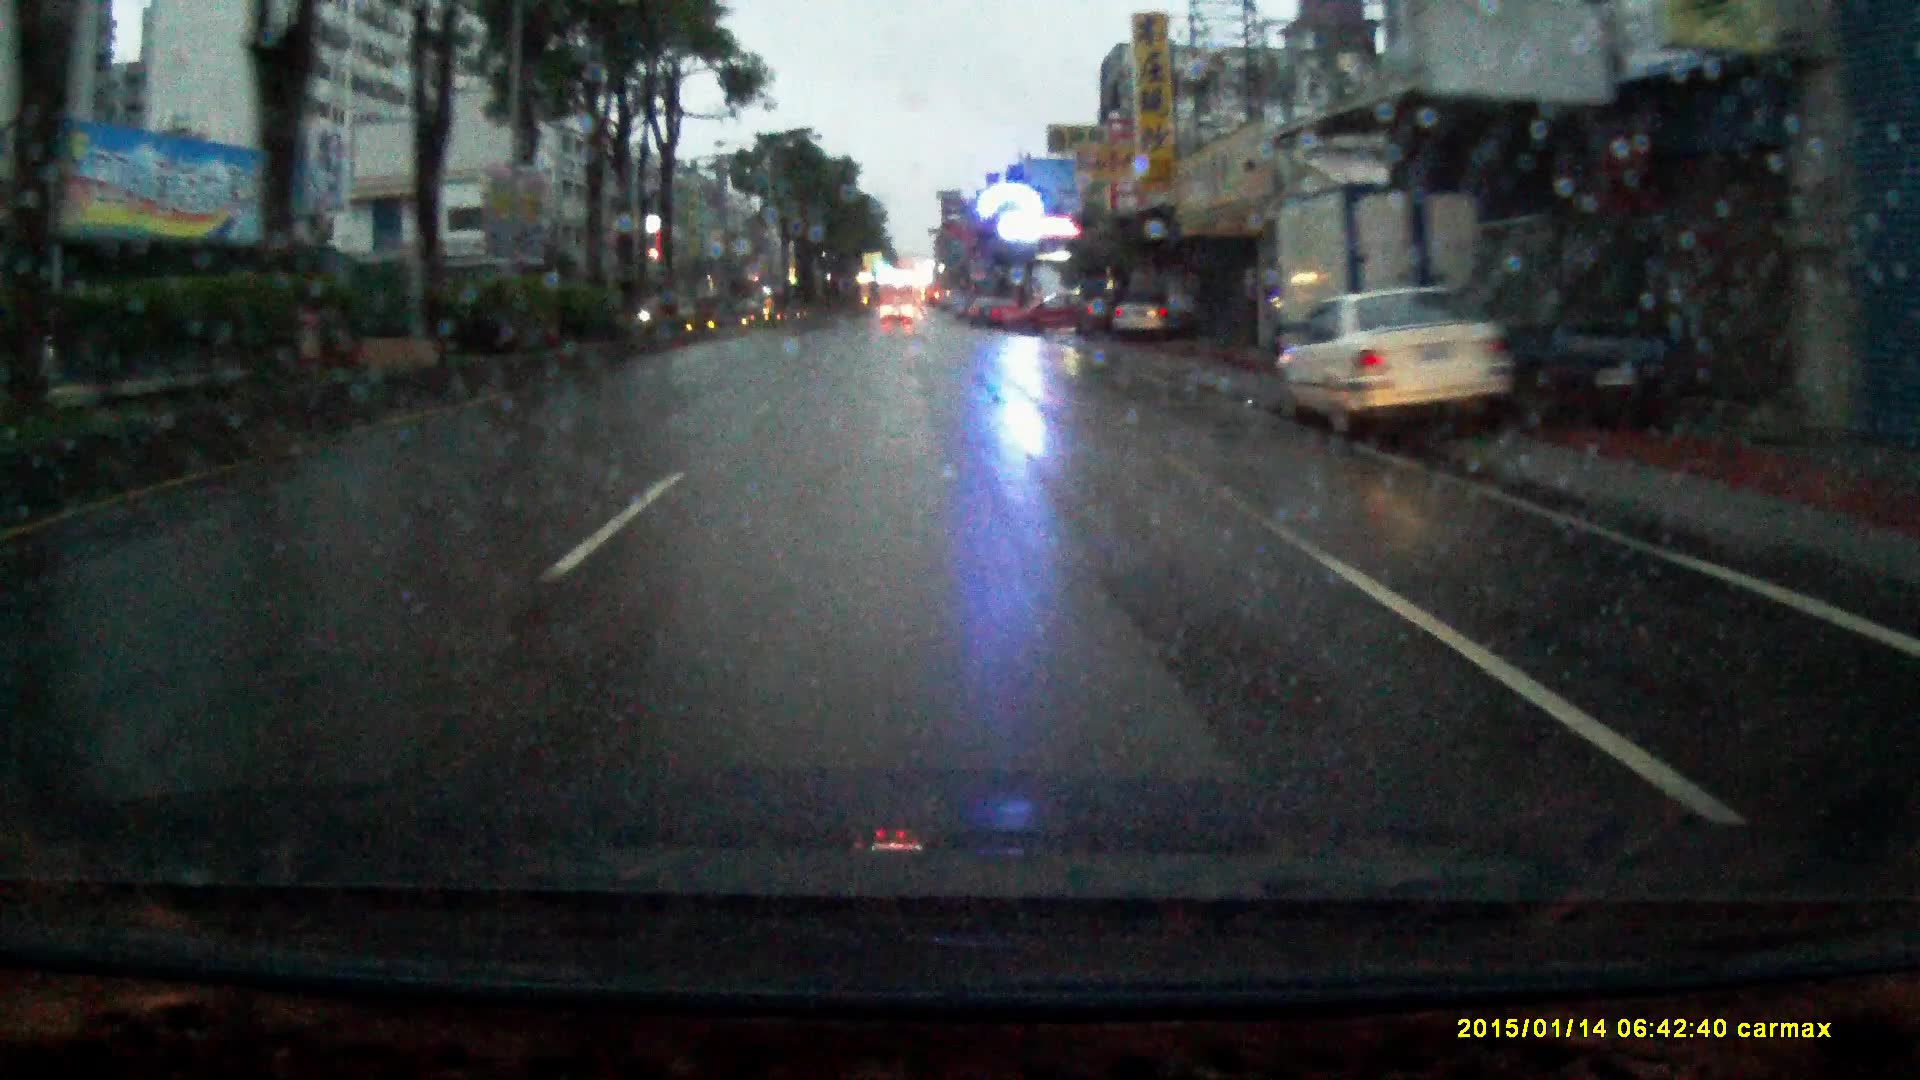vehicle: (1253, 160, 1536, 400), (1516, 212, 1749, 429), (1262, 285, 1528, 436), (1001, 289, 1093, 338), (1098, 291, 1168, 342), (881, 298, 914, 328)
